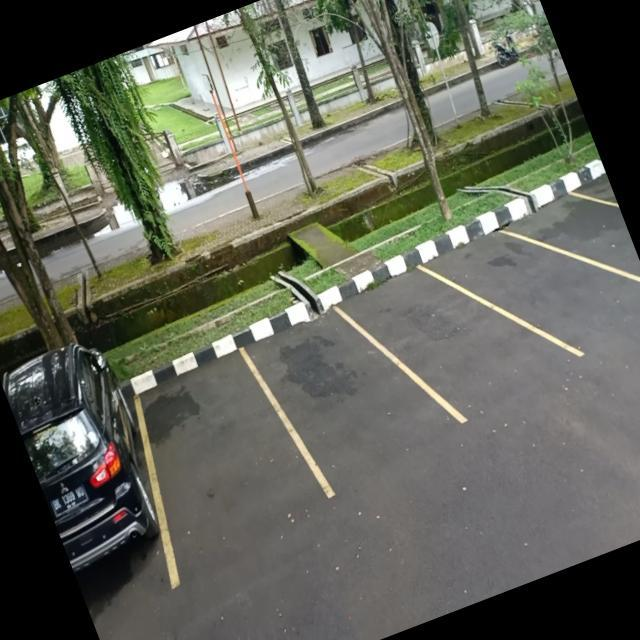empty: (112, 317, 329, 564), (242, 274, 433, 506), (364, 236, 540, 446), (468, 195, 614, 382)
occupied: (3, 349, 191, 614)
